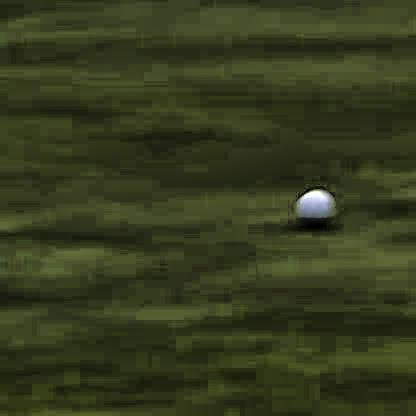golfball: (293, 183, 335, 227)
